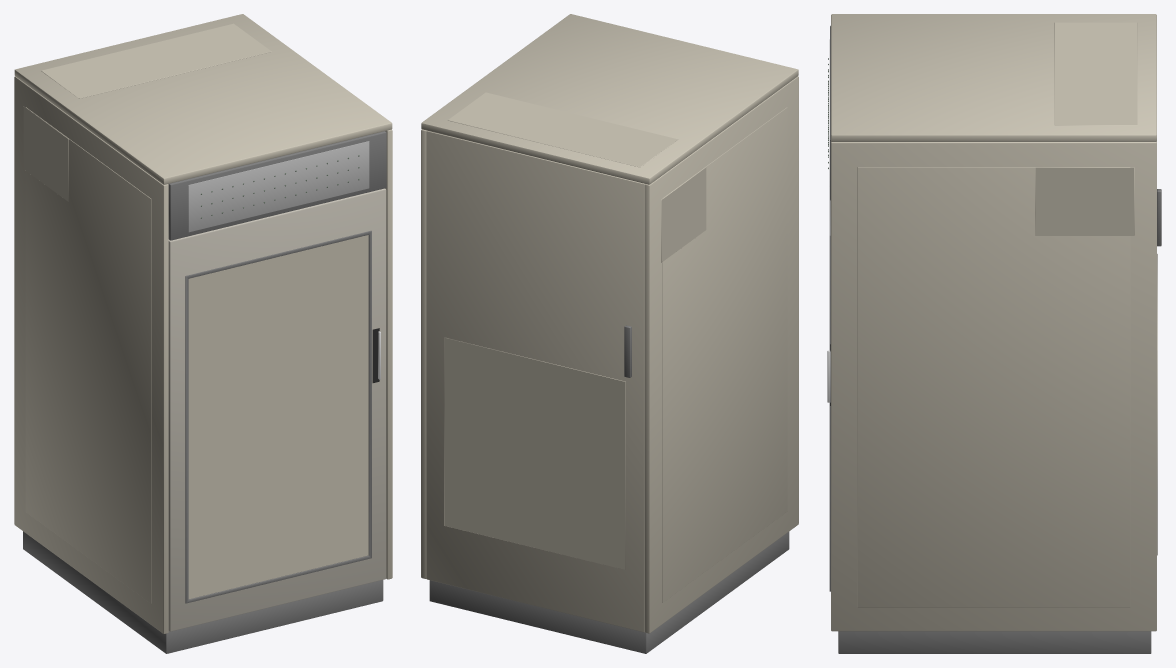
The model's file is Kit_SystemCabinet_Comms_Off.fbx.
3 views of the same model, side by side, from view 1: azimuth 30°, elevation 25°; view 2: azimuth 150°, elevation 25°; view 3: azimuth 270°, elevation 25° (orthographic). The views are drawn at different scales.
Visible parts, largest first — view 1: Kit_SystemCabinet_Comms_LOD0; view 2: Kit_SystemCabinet_Comms_LOD0; view 3: Kit_SystemCabinet_Comms_LOD0.
Boxes of the visible parts, box(x1,y1,x2,y2) form: Kit_SystemCabinet_Comms_LOD0: box(14, 14, 392, 653); Kit_SystemCabinet_Comms_LOD0: box(421, 14, 798, 653); Kit_SystemCabinet_Comms_LOD0: box(827, 14, 1161, 653).
Size of what is drawn, in the model's own units: 0.7671 by 1.52 by 0.881.
